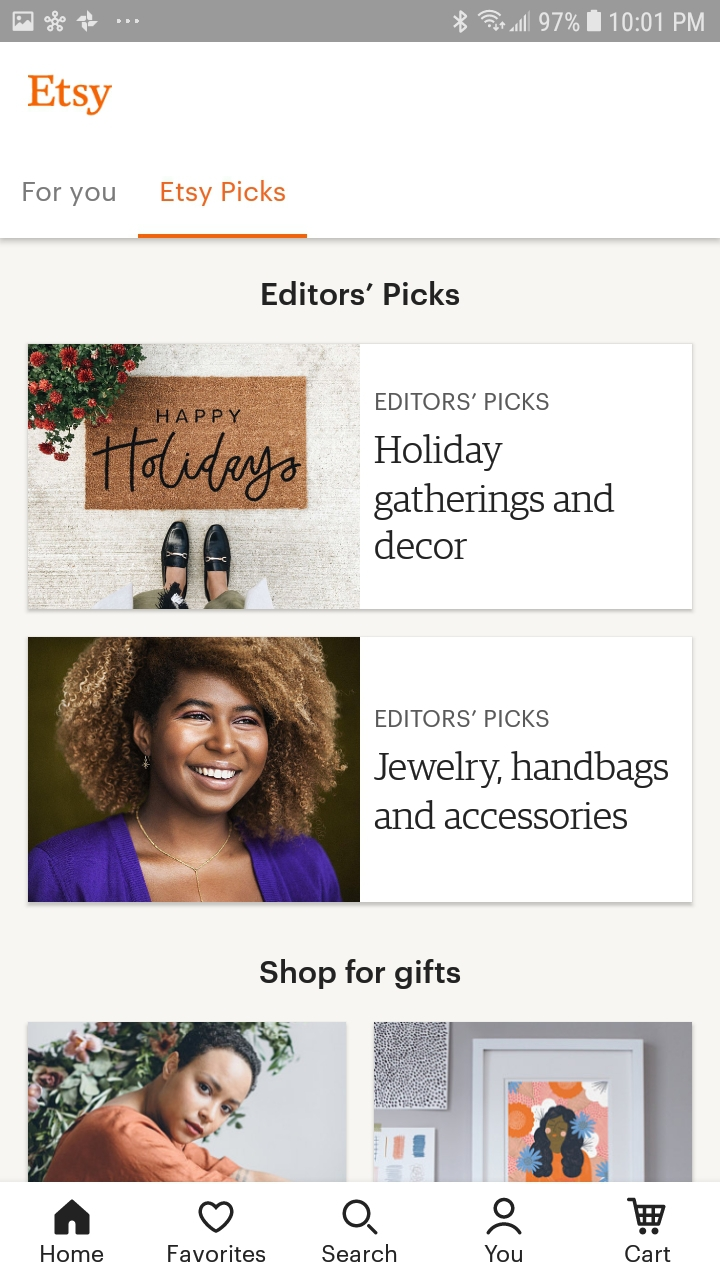Icon: (626, 1197, 666, 1235), (486, 1198, 522, 1236), (343, 1199, 379, 1235), (55, 1199, 91, 1235), (199, 1200, 235, 1233)
Image: (29, 343, 360, 610), (29, 637, 361, 903), (373, 1022, 692, 1182), (29, 1022, 348, 1182)
Text: (374, 434, 615, 560), (374, 750, 669, 830), (260, 958, 461, 990), (262, 281, 460, 306), (28, 74, 114, 117), (161, 180, 286, 208), (375, 392, 549, 411), (376, 709, 550, 728), (24, 182, 116, 207), (168, 1244, 266, 1263), (322, 1243, 397, 1263), (41, 1245, 105, 1263), (625, 1244, 671, 1263), (484, 1244, 523, 1262)
UpperTaskBar: (1, 1, 720, 43)
